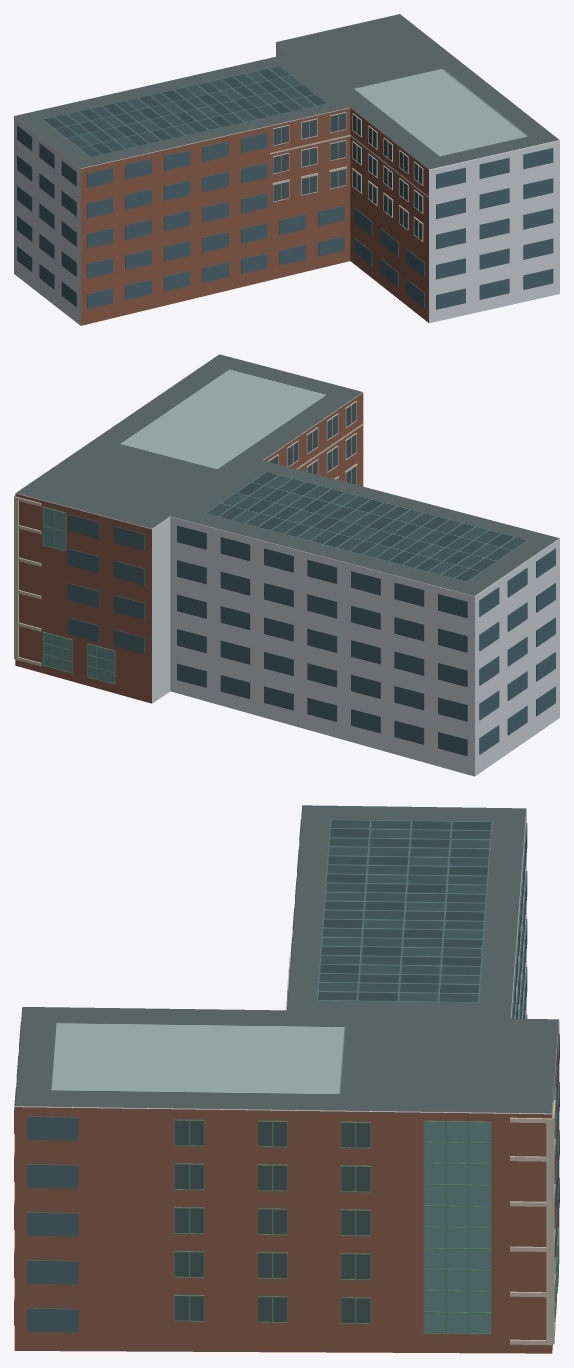
The model's file is fragments.glb.
3 renders of one model, top to bottom at view 1: azimuth 30°, elevation 25°; view 2: azimuth 150°, elevation 25°; view 3: azimuth 270°, elevation 25°, orthographic. The views are drawn at different scales.
Parts seen in each view (by area): view 1: SM_1470108675_Fragment_011, SM_1470108675_Fragment_050, SM_1470108675_Fragment_001, SM_1470108675_Fragment_049, SM_1470108675_Fragment_012, SM_1470108675_Fragment_010, SM_1470108675_Fragment_032, SM_1470108675_Fragment_004, SM_1470108675_Fragment_008, SM_1470108675_Fragment_046, SM_1470108675_Fragment_015, SM_1470108675_Fragment_020 (+25 smaller); view 2: SM_1470108675_Fragment_025, SM_1470108675_Fragment_005, SM_1470108675_Fragment_038, SM_1470108675_Fragment_011, SM_1470108675_Fragment_023, SM_1470108675_Fragment_042, SM_1470108675_Fragment_009, SM_1470108675_Fragment_035, SM_1470108675_Fragment_054, SM_1470108675_Fragment_062, SM_1470108675_Fragment_033, SM_1470108675_Fragment_000 (+26 smaller); view 3: SM_1470108675_Fragment_028, SM_1470108675_Fragment_016, SM_1470108675_Fragment_020, SM_1470108675_Fragment_017, SM_1470108675_Fragment_007, SM_1470108675_Fragment_047, SM_1470108675_Fragment_003, SM_1470108675_Fragment_051, SM_1470108675_Fragment_027, SM_1470108675_Fragment_057, SM_1470108675_Fragment_060, SM_1470108675_Fragment_045 (+20 smaller).
Part boxes in pixels (box(x1,y1,x2,y2)): SM_1470108675_Fragment_011: box(39, 143, 151, 276); SM_1470108675_Fragment_050: box(241, 175, 333, 284); SM_1470108675_Fragment_001: box(61, 245, 171, 325); SM_1470108675_Fragment_049: box(176, 158, 275, 252); SM_1470108675_Fragment_012: box(254, 91, 350, 173); SM_1470108675_Fragment_010: box(458, 126, 559, 210); SM_1470108675_Fragment_032: box(395, 147, 474, 250); SM_1470108675_Fragment_004: box(130, 111, 217, 201); SM_1470108675_Fragment_008: box(350, 94, 429, 205); SM_1470108675_Fragment_046: box(425, 205, 515, 279); SM_1470108675_Fragment_015: box(369, 188, 429, 298); SM_1470108675_Fragment_020: box(505, 156, 559, 271); SM_1470108675_Fragment_025: box(394, 560, 527, 666); SM_1470108675_Fragment_005: box(394, 641, 515, 758); SM_1470108675_Fragment_038: box(300, 548, 407, 645); SM_1470108675_Fragment_011: box(493, 522, 559, 681); SM_1470108675_Fragment_023: box(87, 629, 219, 704); SM_1470108675_Fragment_042: box(206, 497, 293, 610); SM_1470108675_Fragment_009: box(259, 578, 350, 687); SM_1470108675_Fragment_035: box(93, 549, 176, 641); SM_1470108675_Fragment_054: box(18, 486, 117, 589); SM_1470108675_Fragment_062: box(156, 560, 250, 654); SM_1470108675_Fragment_033: box(195, 607, 277, 718); SM_1470108675_Fragment_000: box(158, 482, 264, 563); SM_1470108675_Fragment_028: box(276, 1106, 490, 1334); SM_1470108675_Fragment_016: box(107, 1163, 273, 1327); SM_1470108675_Fragment_020: box(14, 1130, 115, 1315); SM_1470108675_Fragment_017: box(397, 1072, 556, 1333); SM_1470108675_Fragment_007: box(232, 1052, 380, 1194); SM_1470108675_Fragment_047: box(134, 1051, 284, 1172); SM_1470108675_Fragment_003: box(296, 1245, 423, 1352); SM_1470108675_Fragment_051: box(143, 1270, 334, 1352); SM_1470108675_Fragment_027: box(67, 1072, 174, 1227); SM_1470108675_Fragment_057: box(490, 1116, 556, 1353); SM_1470108675_Fragment_060: box(286, 1032, 469, 1107); SM_1470108675_Fragment_045: box(316, 814, 521, 880).
Size of the model in its own units: 2.2 by 0.8316 by 1.64.
Materials: 13 (1 with a texture image).
